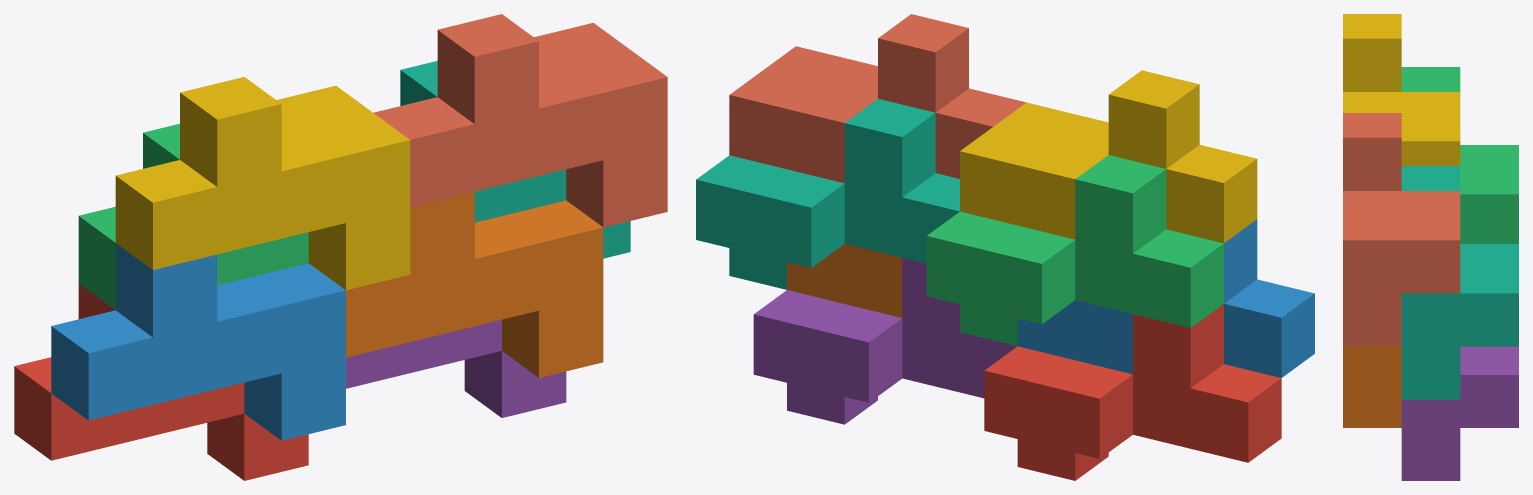
Rendered from tiling.obj.
The picture shows the model from 3 angles, left to right: view 1: azimuth 30°, elevation 25°; view 2: azimuth 150°, elevation 25°; view 3: azimuth 270°, elevation 25°; orthographic projection. The views are drawn at different scales.
Visible parts, largest first — view 1: copy_1_domain_4, copy_1_domain_8, copy_1_domain_2, copy_1_domain_6, copy_1_domain_1, copy_1_domain_5, copy_1_domain_3, copy_1_domain_7; view 2: copy_1_domain_3, copy_1_domain_1, copy_1_domain_4, copy_1_domain_7, copy_1_domain_8, copy_1_domain_5, copy_1_domain_2, copy_1_domain_6; view 3: copy_1_domain_8, copy_1_domain_7, copy_1_domain_4, copy_1_domain_5, copy_1_domain_3, copy_1_domain_6.
Part boxes in pixels (x1,y1,x2,y2): copy_1_domain_4: (115,77,410,290); copy_1_domain_8: (373,14,667,227); copy_1_domain_2: (51,243,345,440); copy_1_domain_6: (346,191,603,377); copy_1_domain_1: (14,283,308,480); copy_1_domain_5: (346,319,566,417); copy_1_domain_3: (78,123,308,309); copy_1_domain_7: (400,61,630,258); copy_1_domain_3: (926,155,1223,345); copy_1_domain_1: (984,304,1281,480); copy_1_domain_4: (960,70,1257,243); copy_1_domain_7: (696,98,959,289); copy_1_domain_8: (729,14,1026,183); copy_1_domain_5: (753,258,1017,424); copy_1_domain_2: (1017,219,1314,377); copy_1_domain_6: (787,244,902,317); copy_1_domain_8: (1343,113,1460,346); copy_1_domain_7: (1401,166,1518,399); copy_1_domain_4: (1343,14,1460,165); copy_1_domain_5: (1401,346,1518,480); copy_1_domain_3: (1401,67,1518,243); copy_1_domain_6: (1343,346,1401,427).
Bounding box in the file's own units: 9 × 6 × 3.
